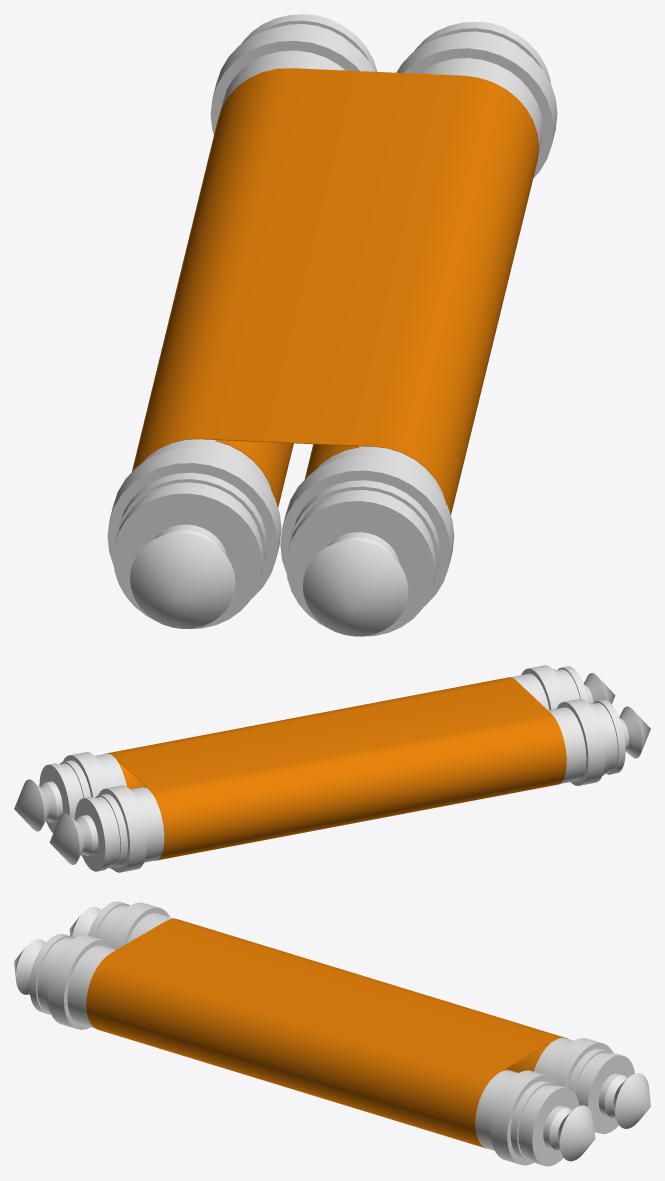
Rendered from scroll orange.fbx.
3 views of the same model, one above another, from view 1: azimuth 30°, elevation 25°; view 2: azimuth 150°, elevation 25°; view 3: azimuth 270°, elevation 25° (orthographic). The views are drawn at different scales.
Visible parts, largest first — view 1: Cylinder.011; view 2: Cylinder.011; view 3: Cylinder.011.
Boxes of the visible parts, x1=… form: Cylinder.011: x1=107, y1=14, x2=557, y2=636; Cylinder.011: x1=14, y1=665, x2=650, y2=872; Cylinder.011: x1=14, y1=901, x2=650, y2=1166.
Bounding box in the file's own units: 215 × 38.72 × 265.
